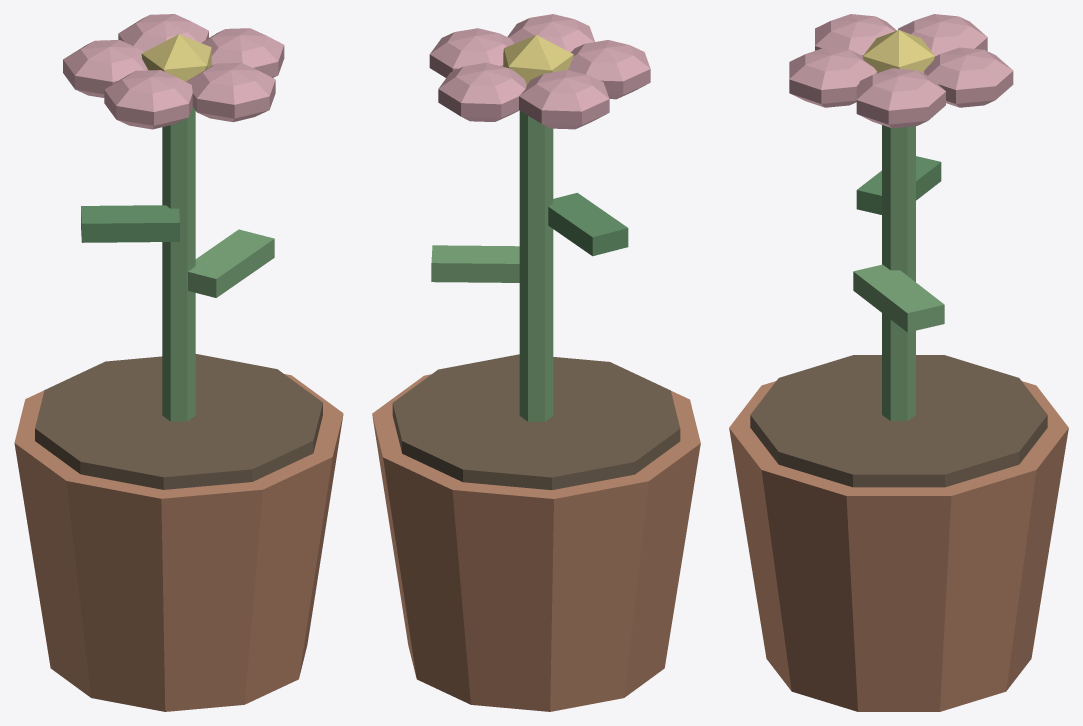
File: pla_orquidea2.glb
The picture shows the model from 3 angles, left to right: view 1: azimuth 30°, elevation 25°; view 2: azimuth 150°, elevation 25°; view 3: azimuth 270°, elevation 25°; orthographic projection.
Visible parts, largest first — view 1: PLA_ORQUIDEA2_v01; view 2: PLA_ORQUIDEA2_v01; view 3: PLA_ORQUIDEA2_v01.
Boxes of the visible parts, bbox=[...] form: PLA_ORQUIDEA2_v01: bbox=[14, 14, 343, 711]; PLA_ORQUIDEA2_v01: bbox=[372, 14, 700, 711]; PLA_ORQUIDEA2_v01: bbox=[729, 14, 1068, 711].
Bounding box in the file's own units: 0.2283 × 0.49 × 0.24.
